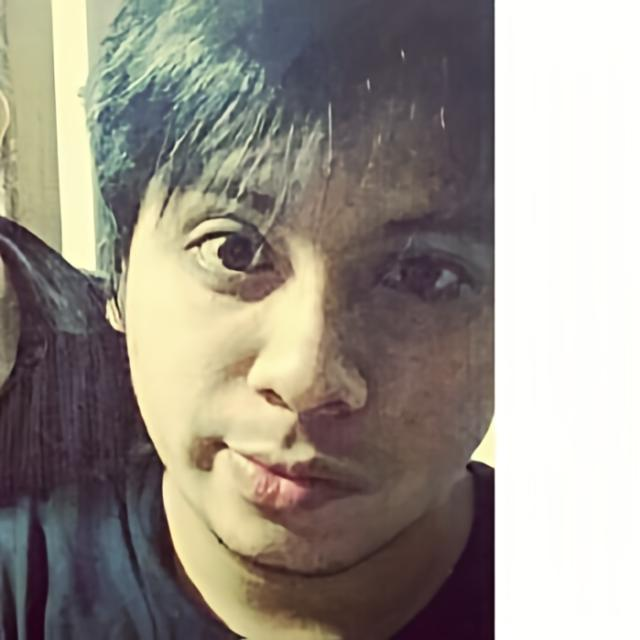neutral: (128, 70, 484, 586)
